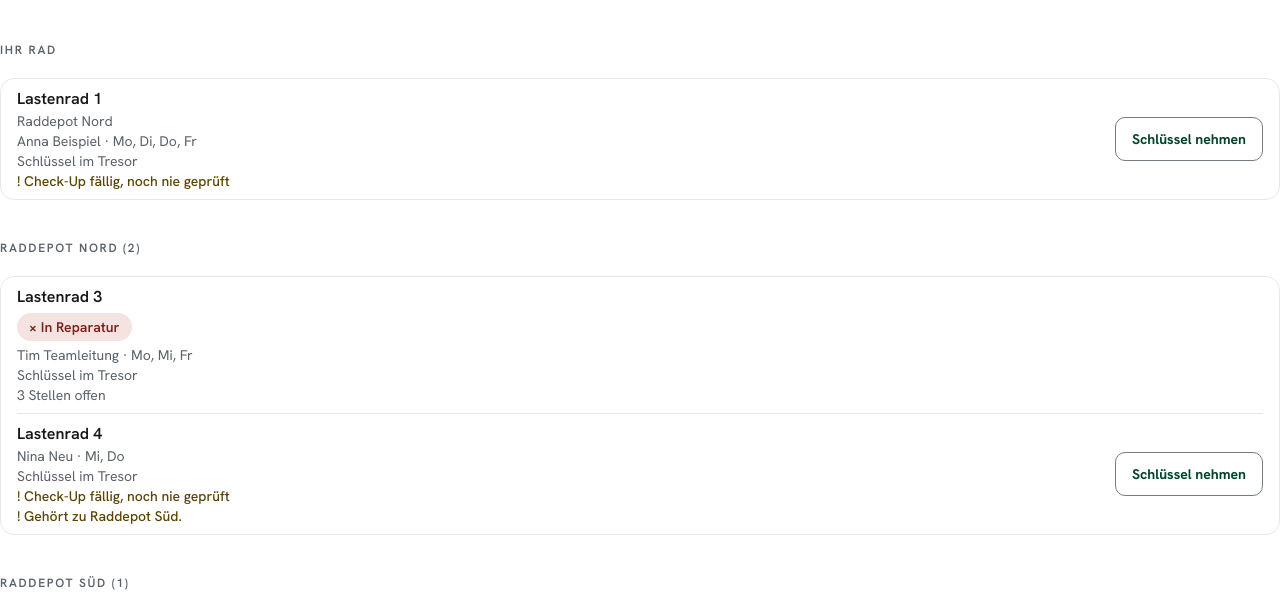
it: Radflotte › sagt einen Fehler des Servers in Worten
(page scrolled)
Click the button with aria-label "Schlüssel von Lastenrad 4 nehmen": (1189, 474) top-left (1115, 452), bottom-right (1263, 496)
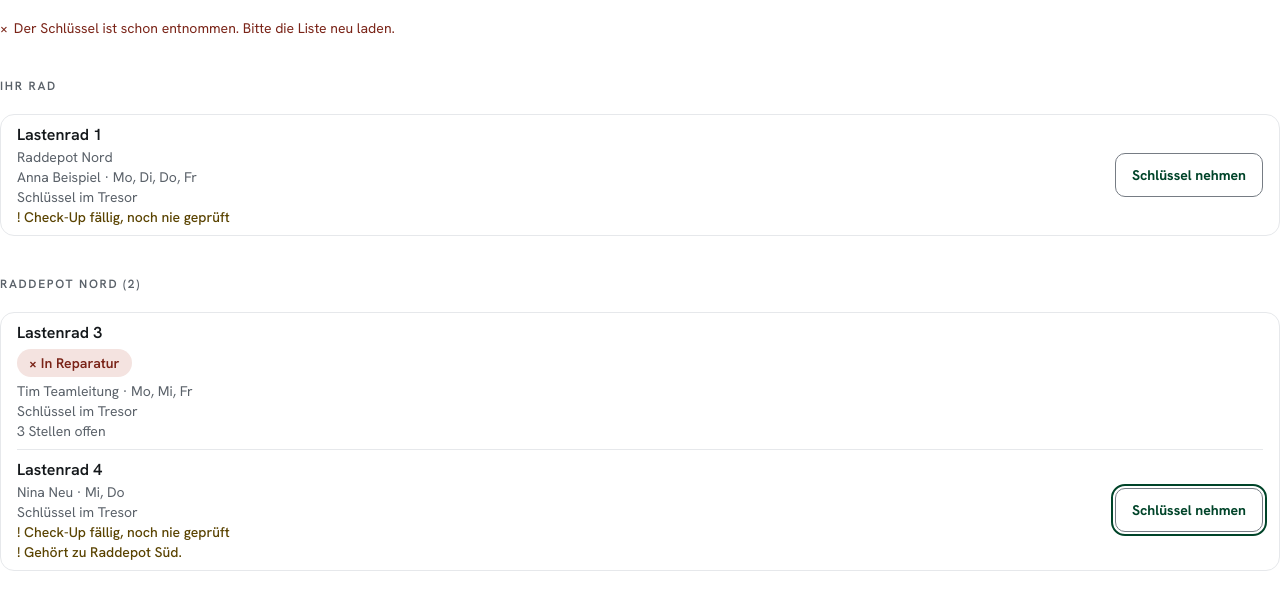
Now the message shows "Der Schlüssel ist schon entnommen", box top-left (14, 19), bottom-right (395, 37)
